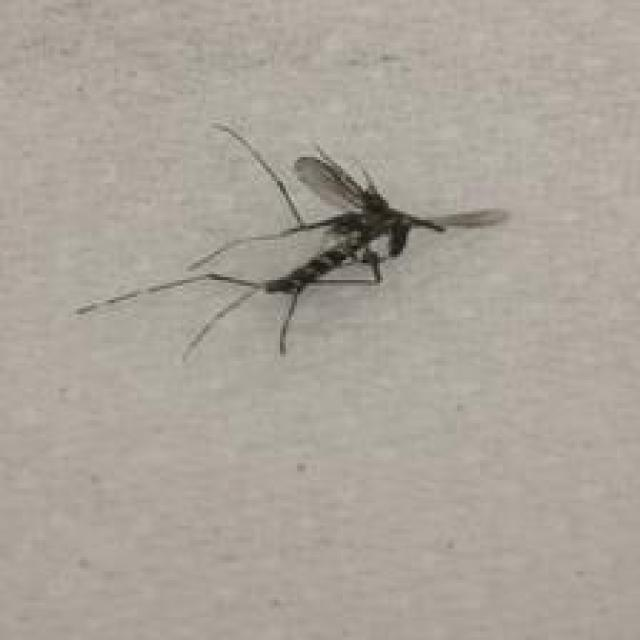Aedes albopictus: (73, 120, 510, 363)
